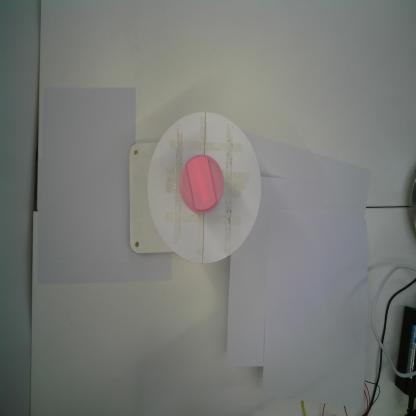Canned Food: (179, 154, 224, 214)
